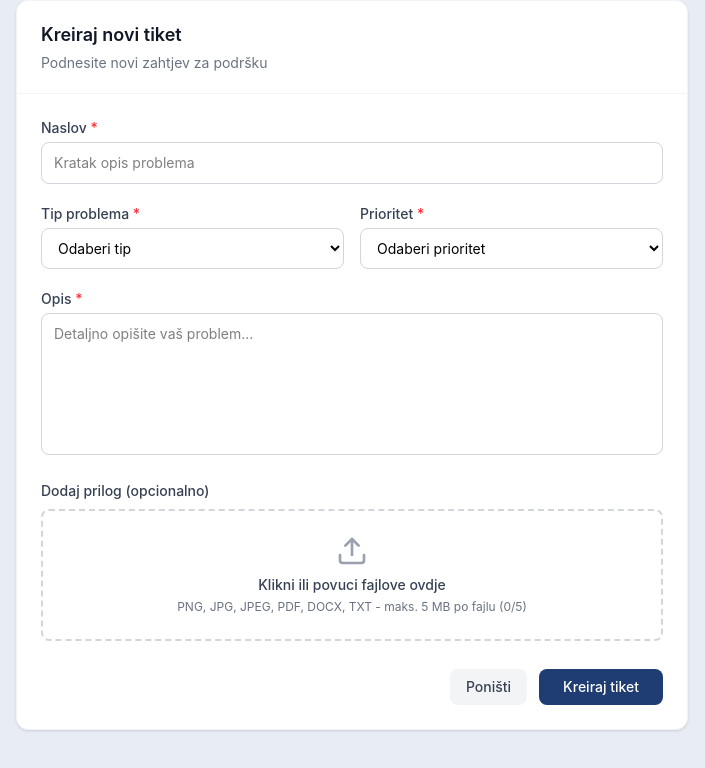
Test case: CreateTicket page › shows validation error when problem type is not selected
The width and height of the screenshot is (705, 768).
Type "Internet problem" into the field labelled "Naslov *" at (352,163), box [41,142,663,184]
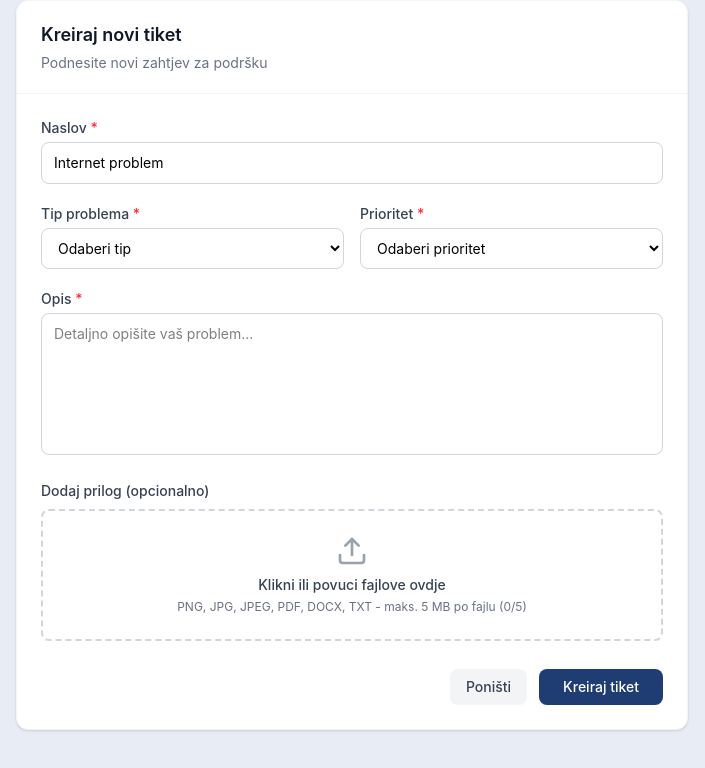
Select "Odaberi tip" in the dropdown labelled "Tip problema *" at (192,248), box [41,228,344,269]
Type "Ne radi internet" into the text box labelled "Opis *" at (352,384), box [41,313,663,455]
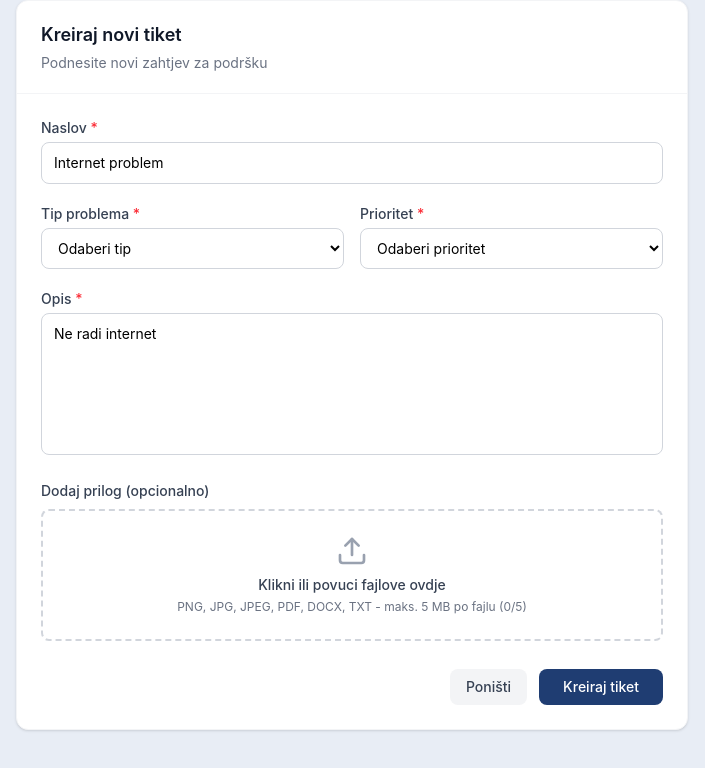
Select "Visok" in the dropdown labelled "Prioritet *" at (512,248), box [360,228,663,269]
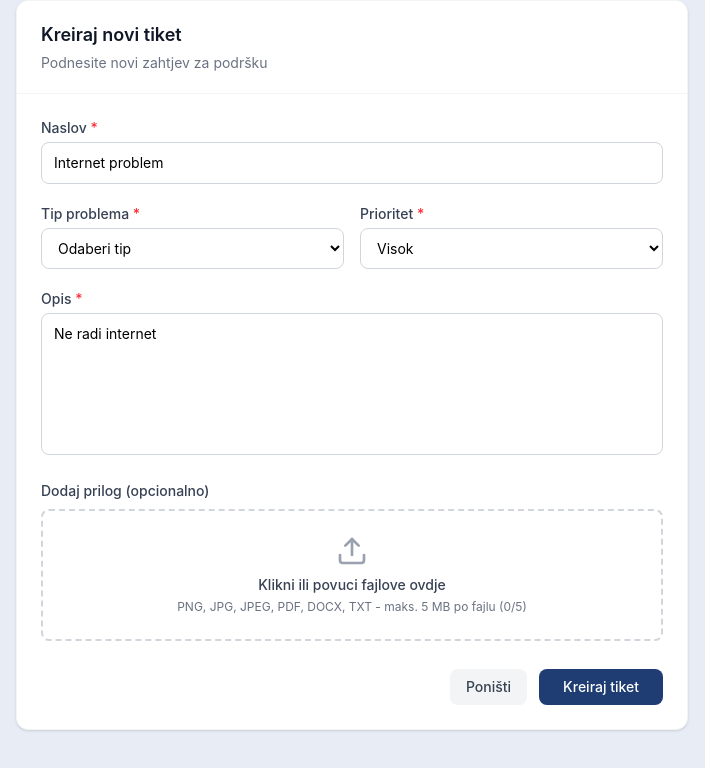
Submit the form named "kreiraj tiket"
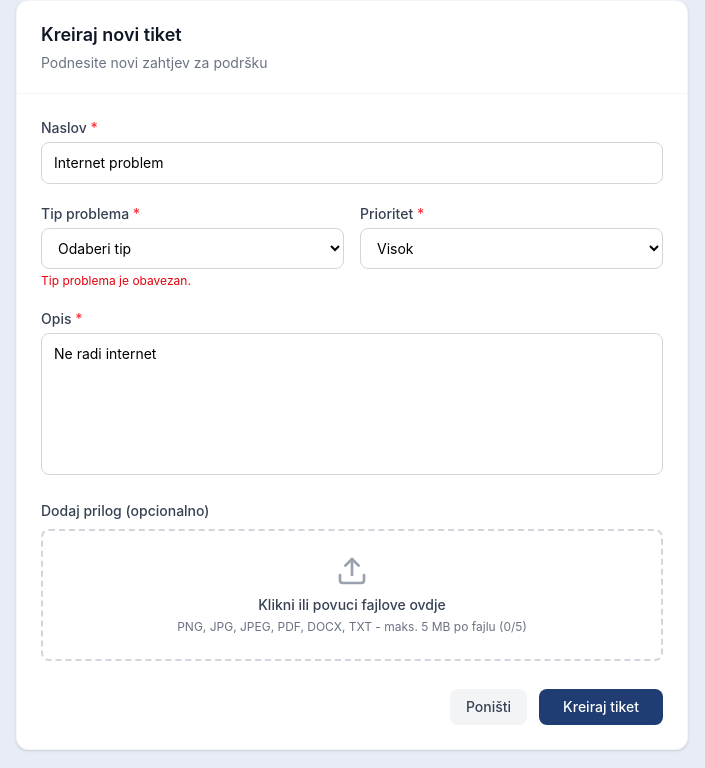
Expected: the text "Tip problema je obavezan." is shown, [41,273,191,288]
